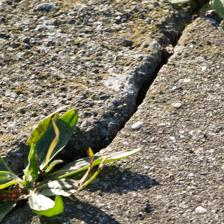Crack: (38, 4, 164, 157)
